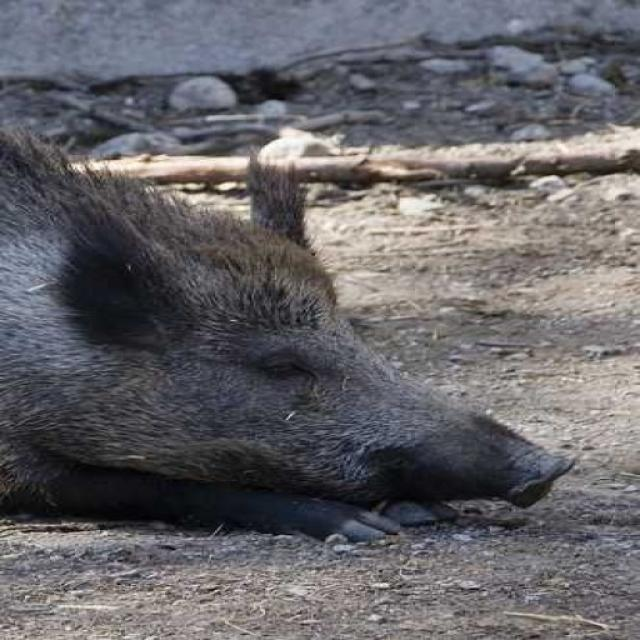pig: (0, 62, 581, 569)
